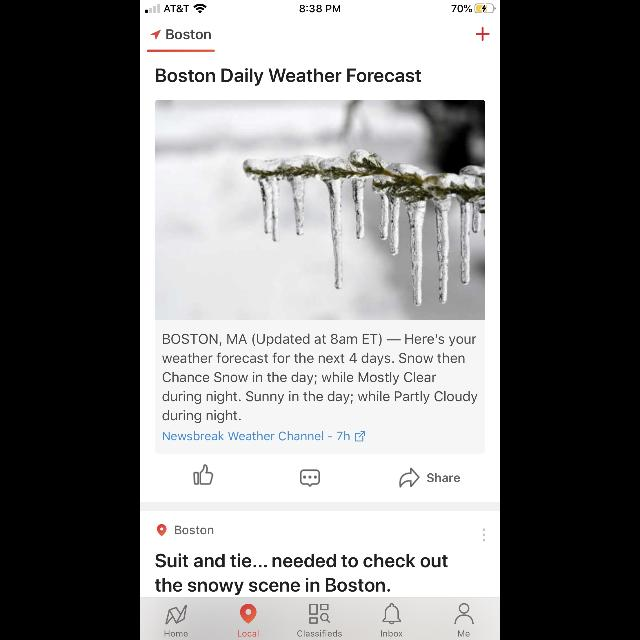icon: (382, 603, 402, 625), (398, 468, 419, 488), (310, 604, 330, 624), (454, 604, 474, 624), (300, 469, 320, 487), (240, 604, 256, 624), (476, 27, 490, 41), (150, 30, 162, 40), (354, 431, 366, 441), (157, 524, 167, 536), (482, 528, 486, 542)
image: (154, 100, 486, 320), (193, 464, 213, 486), (165, 605, 187, 625)
text: (162, 334, 478, 424), (154, 553, 448, 595), (156, 68, 422, 86), (162, 432, 350, 441), (167, 29, 211, 39), (174, 526, 213, 534), (426, 473, 459, 482), (298, 630, 342, 636), (166, 631, 188, 637), (381, 630, 403, 636), (238, 630, 258, 636), (458, 630, 469, 636)
uppertaskbar: (140, 0, 500, 14)
